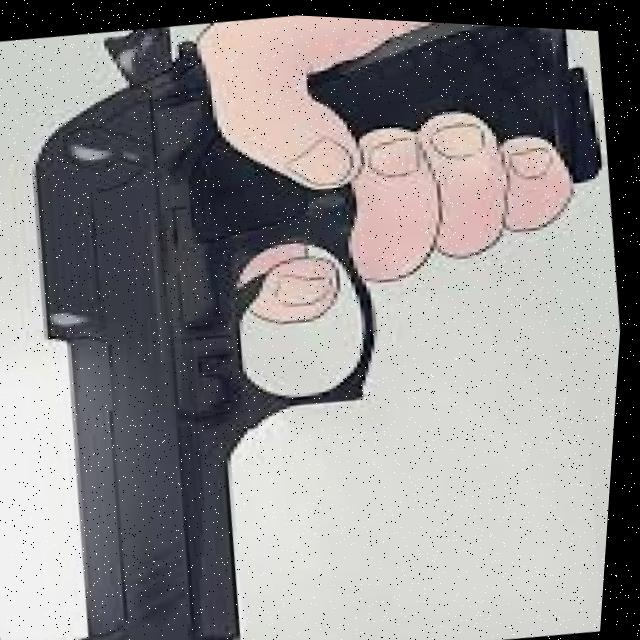pistol: (0, 0, 434, 640)
